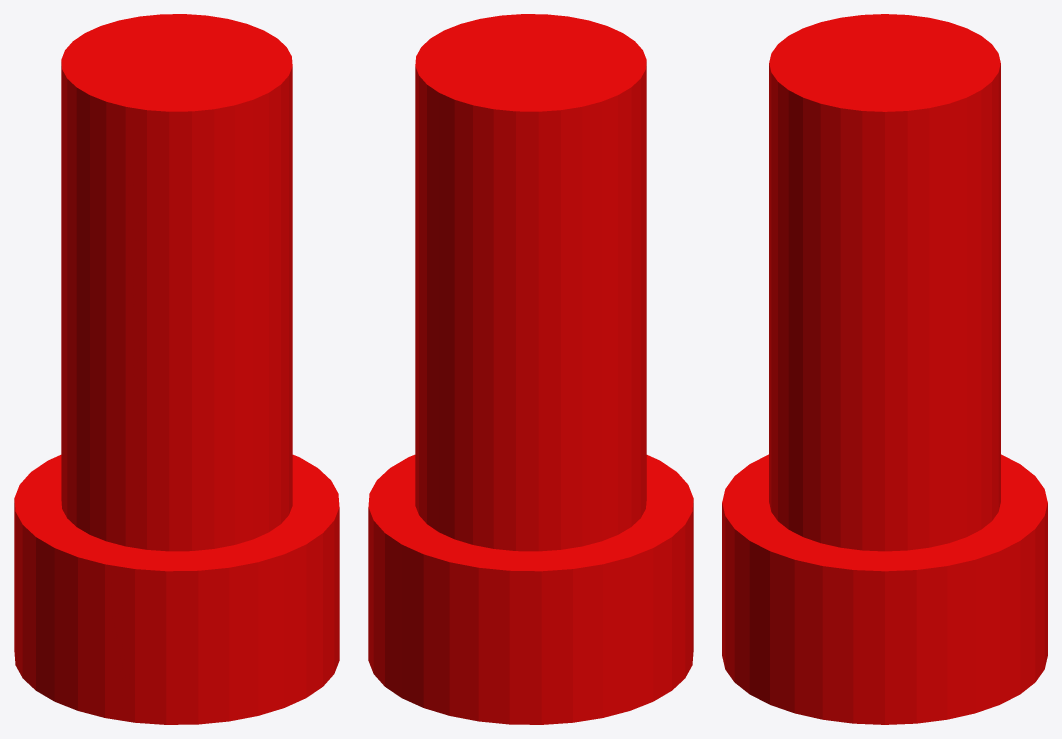
The model's file is vrc_standpipe2.dae.
3 views of the same model, side by side, from view 1: azimuth 30°, elevation 25°; view 2: azimuth 150°, elevation 25°; view 3: azimuth 270°, elevation 25° (orthographic).
Parts seen in each view (by area): view 1: skp68 (×2); view 2: skp68 (×2); view 3: skp68 (×2).
Boxes of the visible parts, left/top/right/bottom form: skp68 (×2): left=14, top=14, right=339, bottom=724; skp68 (×2): left=368, top=14, right=693, bottom=724; skp68 (×2): left=722, top=14, right=1047, bottom=724.
Size of the model in its own units: 7.62 by 7.62 by 15.31.
